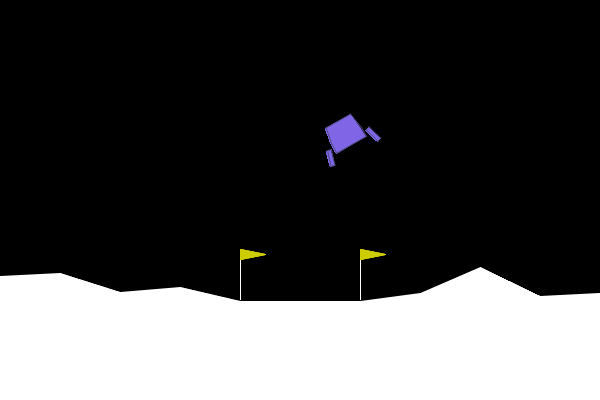lander: (311, 105, 383, 169)
